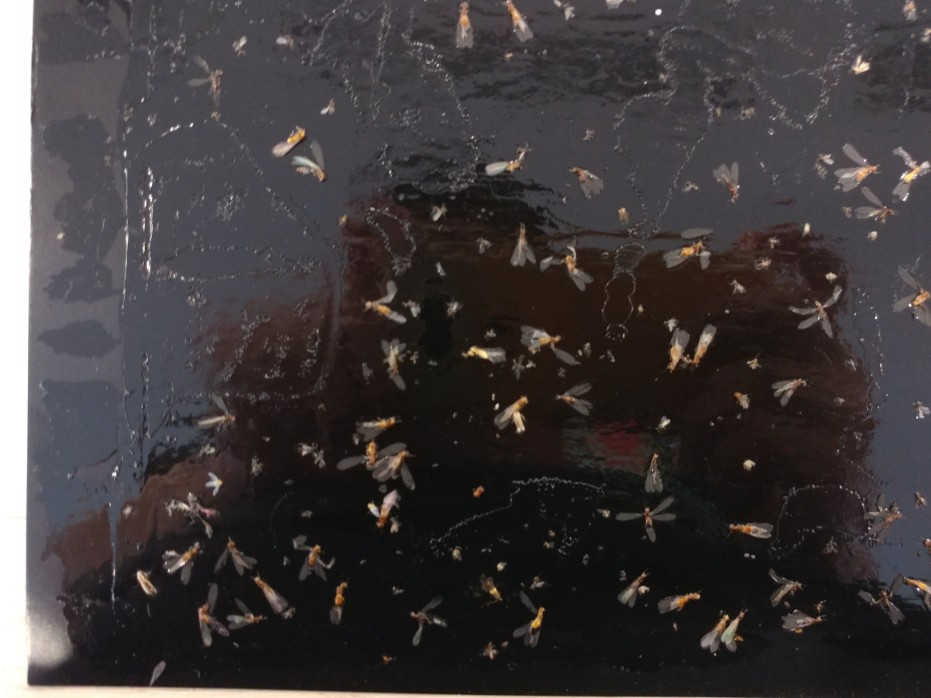termite: (684, 308, 725, 377), (652, 317, 690, 379), (506, 1, 545, 40), (451, 1, 479, 49)
